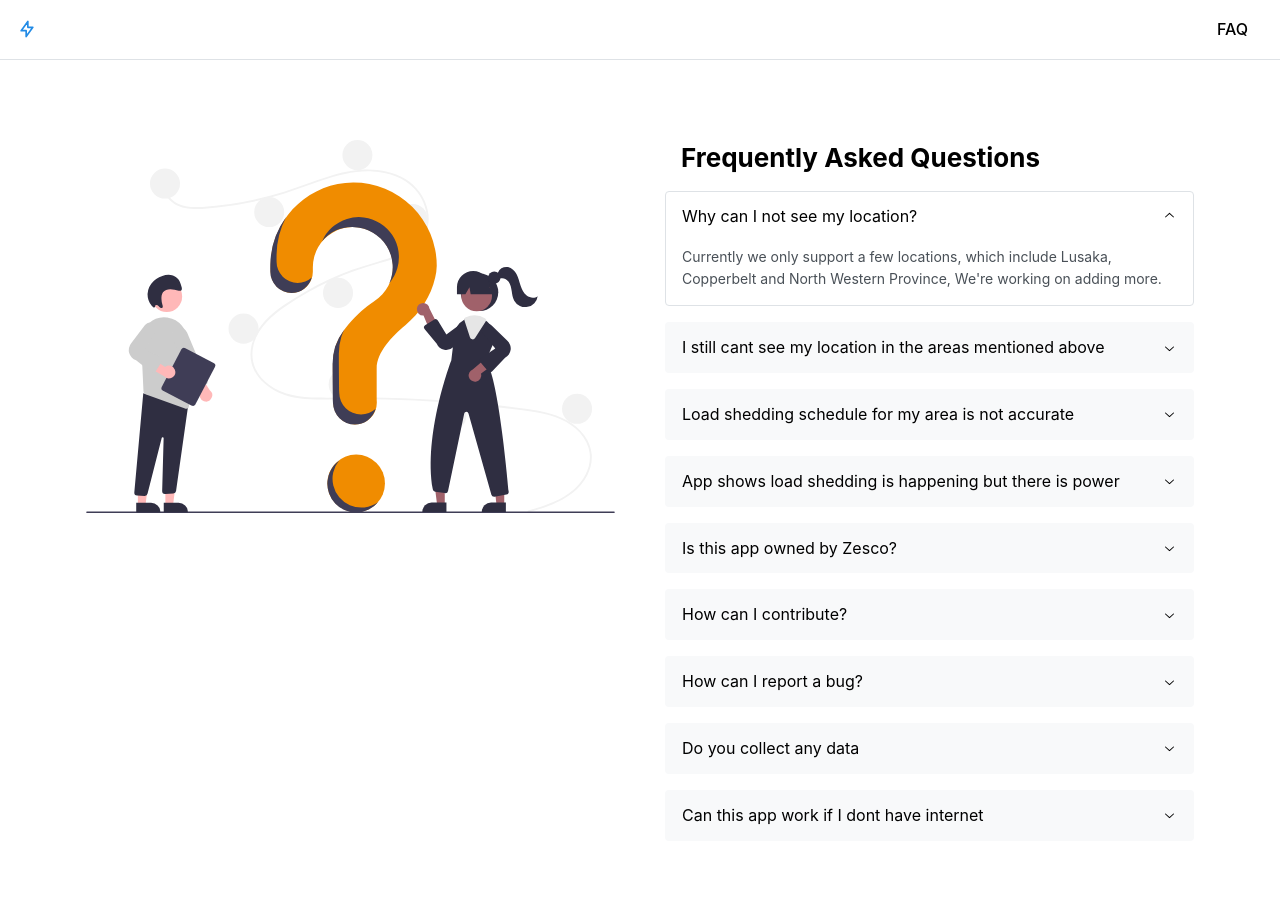
Test: FAQ Component › can expand and collapse accordion items
Expected: the text "Currently we only support a few locations, which include Lusaka, Copperbelt and North Western Province, We're working on" is shown, x1=682 y1=248 x2=1162 y2=287
Click the button "Load shedding schedule for my area is not accurate" at (930, 414), box x1=666 y1=390 x2=1193 y2=439
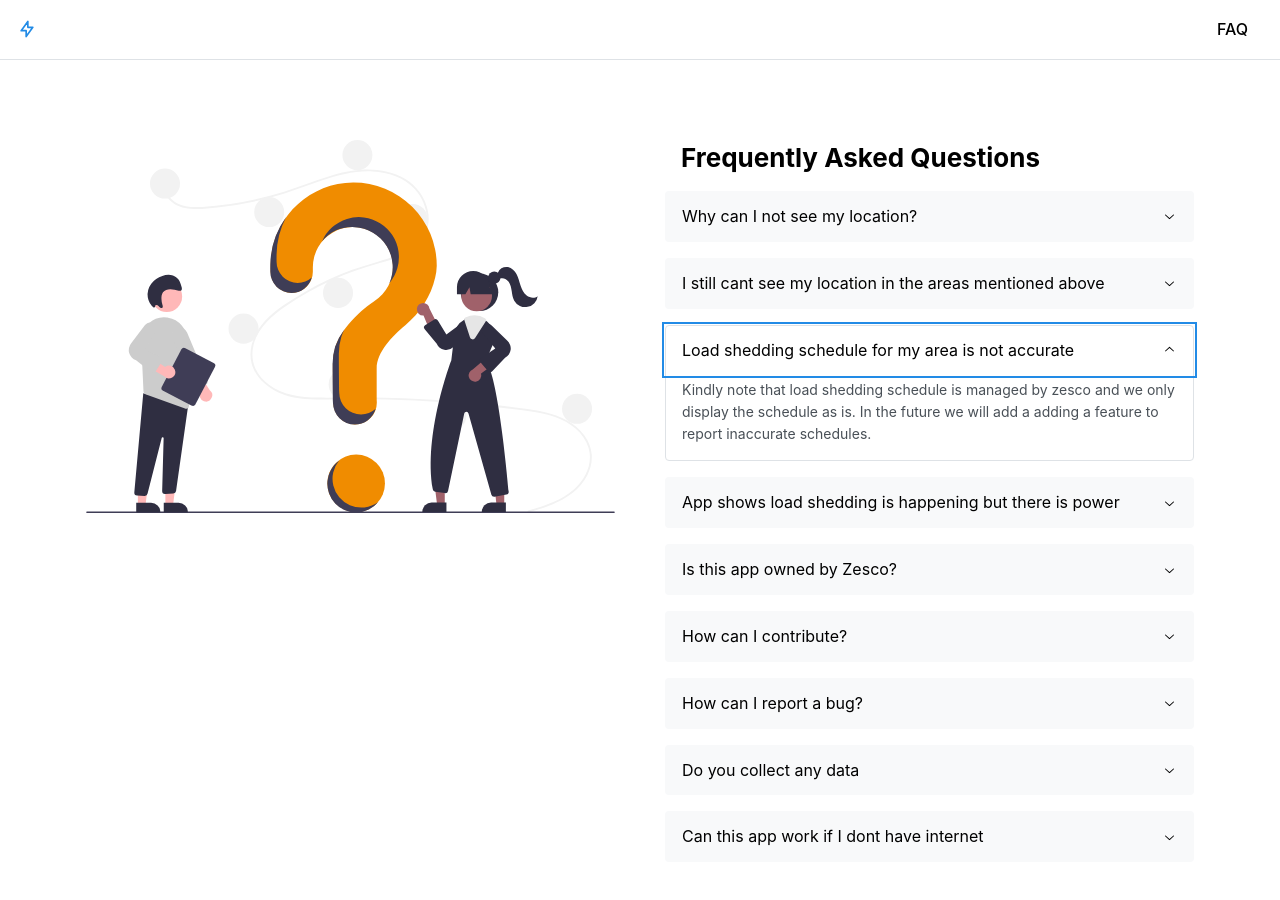
Expected: the text "Currently we only support a few locations, which include Lusaka, Copperbelt and North Western Province, We're working on" is gone
Click the button "Why can I not see my location?" at (800, 216), box x1=666 y1=192 x2=1193 y2=241
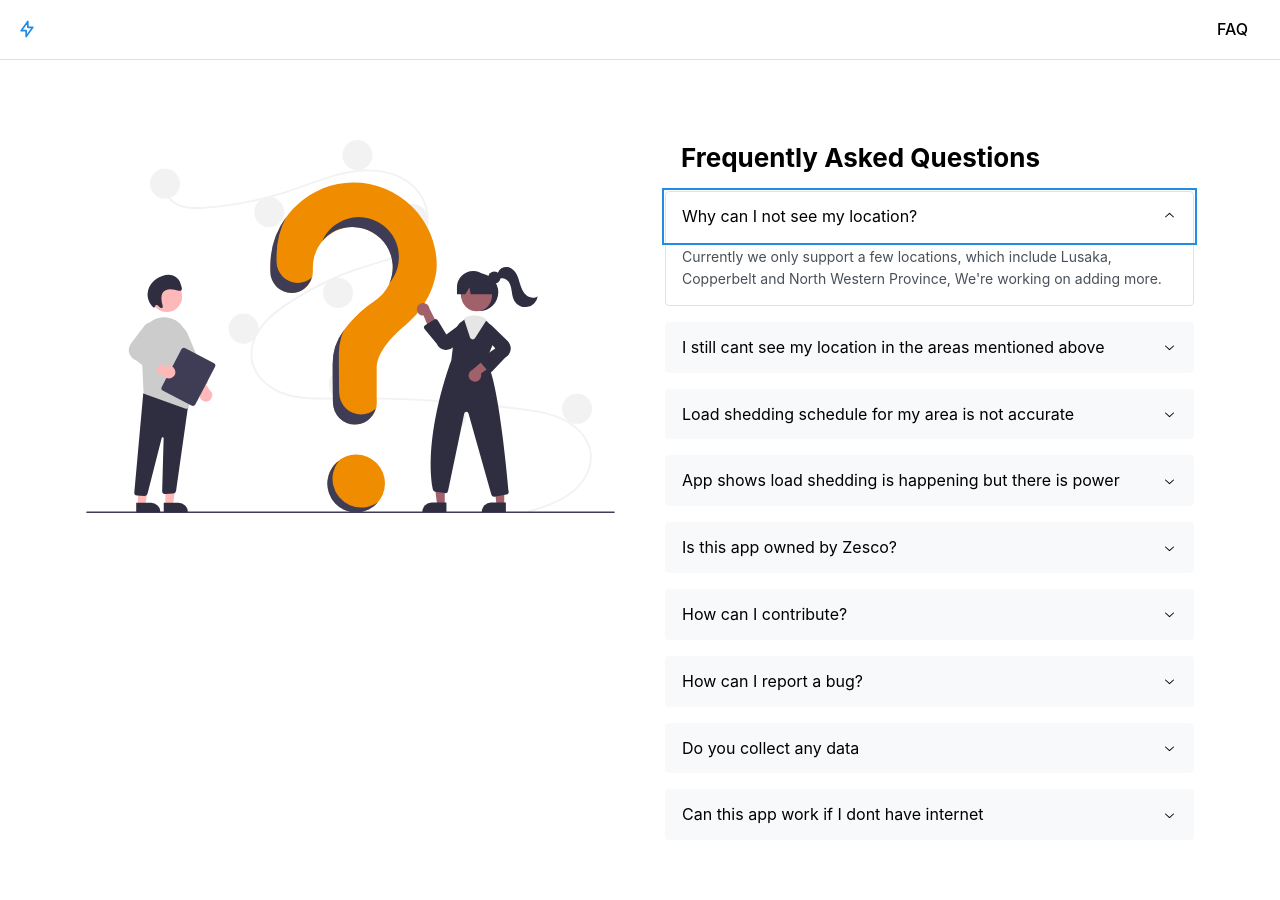
Expected: the text "Currently we only support a few locations, which include Lusaka, Copperbelt and North Western Province, We're working on" is shown, x1=682 y1=248 x2=1162 y2=287
